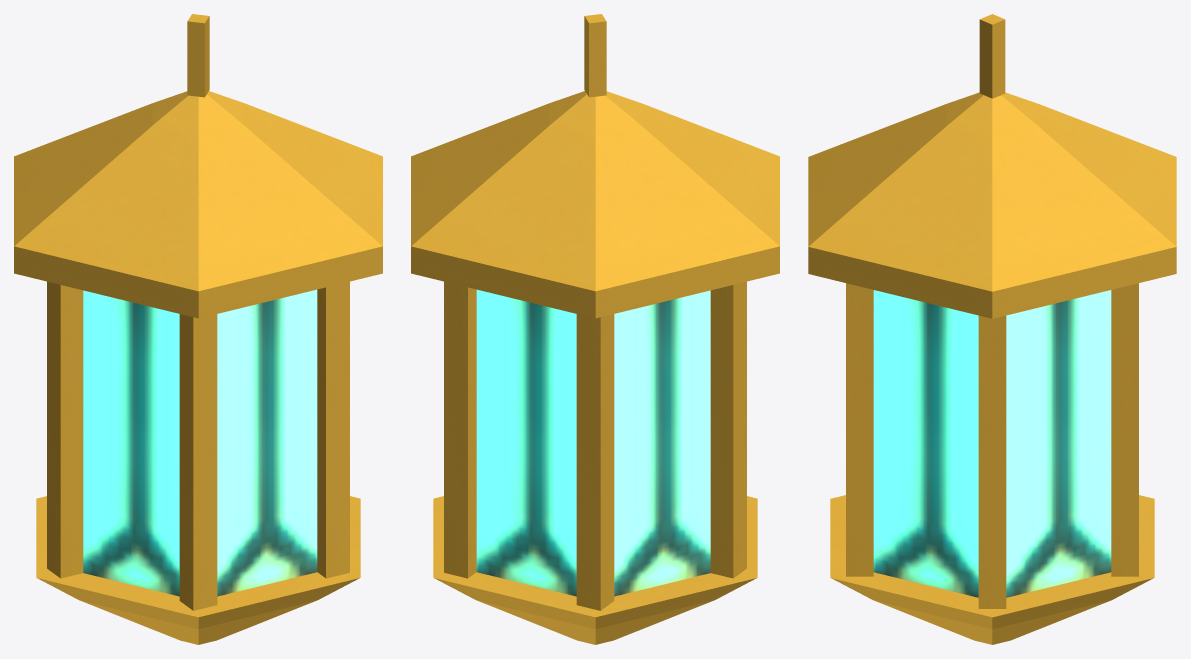
The model's file is rc_light_hanging_small.glb.
3 views of the same model, side by side, from view 1: azimuth 30°, elevation 25°; view 2: azimuth 150°, elevation 25°; view 3: azimuth 270°, elevation 25° (orthographic).
Visible parts, largest first — view 1: SM_RC_Light_HangingSmall_0p5x0p8; view 2: SM_RC_Light_HangingSmall_0p5x0p8; view 3: SM_RC_Light_HangingSmall_0p5x0p8.
Boxes of the visible parts, bbox=[...] form: SM_RC_Light_HangingSmall_0p5x0p8: bbox=[14, 14, 382, 644]; SM_RC_Light_HangingSmall_0p5x0p8: bbox=[411, 14, 779, 644]; SM_RC_Light_HangingSmall_0p5x0p8: bbox=[808, 14, 1176, 644].
Bounding box in the file's own units: 0.5 × 0.8 × 0.433.
Materials: 1 (1 with a texture image).
